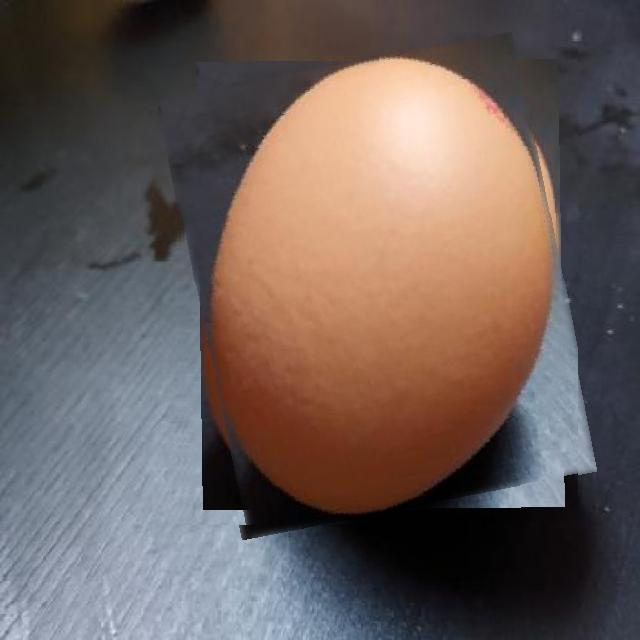biodegradable: (176, 47, 578, 525)
